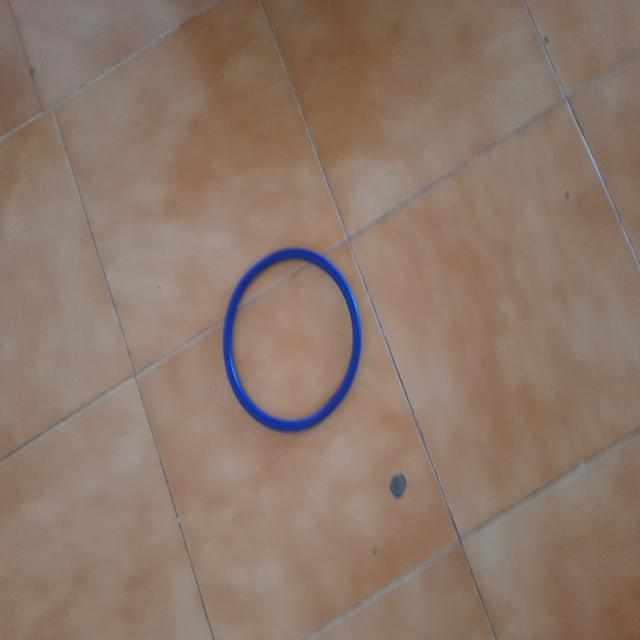daire: (227, 243, 364, 436)
